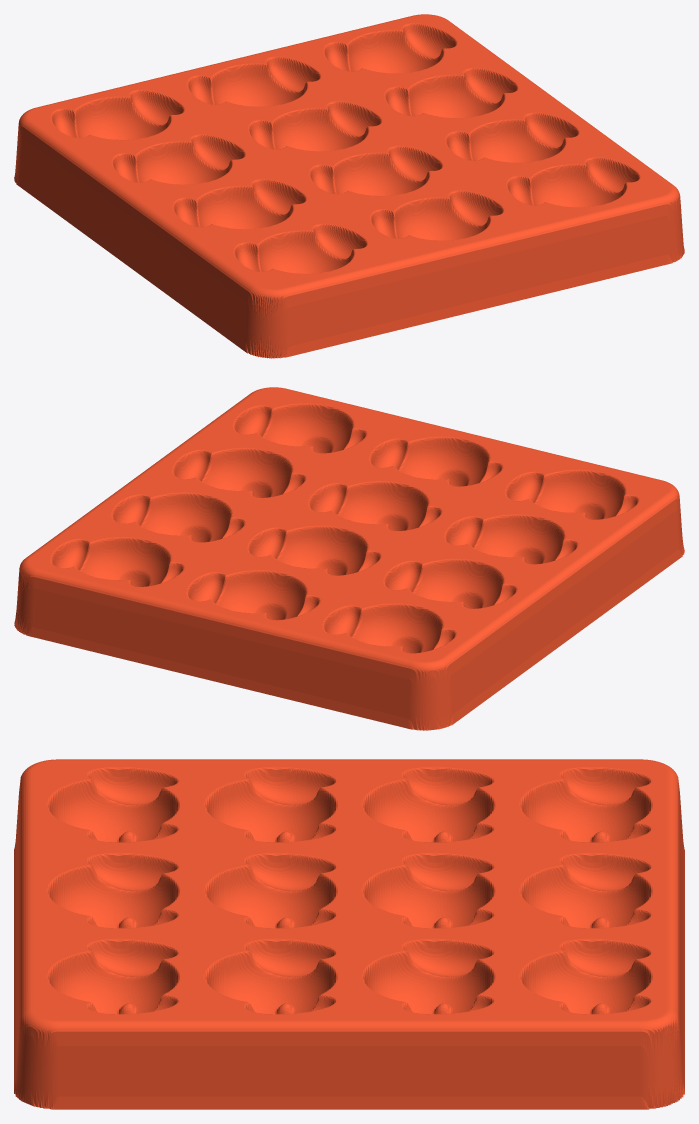
Rendered from mold.glb.
3 renders of one model, top to bottom at view 1: azimuth 30°, elevation 25°; view 2: azimuth 150°, elevation 25°; view 3: azimuth 270°, elevation 25°, orthographic. The views are drawn at different scales.
Visible parts, largest first — view 1: geometry_0; view 2: geometry_0; view 3: geometry_0.
Part boxes in pixels (x1=…): geometry_0: x1=14, y1=14, x2=684, y2=358; geometry_0: x1=14, y1=387, x2=684, y2=730; geometry_0: x1=14, y1=759, x2=684, y2=1109.
Bounding box in the file's own units: 0.1337 × 0.0185 × 0.1378.
